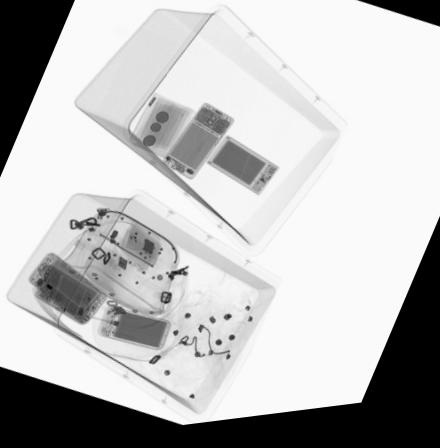Powerbank: (204, 139, 281, 204), (128, 96, 197, 167)
